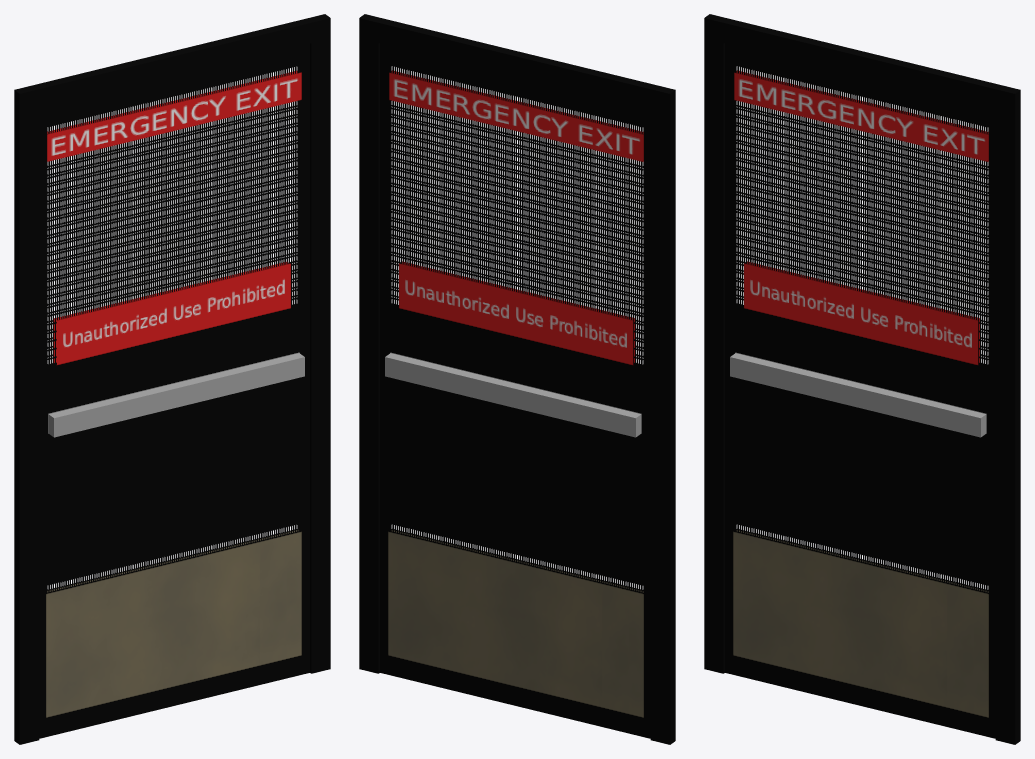
Rendered from nyc_subway_emergency_exit_door_closed.obj.
3 views of the same model, side by side, from view 1: azimuth 30°, elevation 25°; view 2: azimuth 150°, elevation 25°; view 3: azimuth 330°, elevation 25° (orthographic).
Visible parts, largest first — view 1: cube; view 2: cube; view 3: cube.
Part boxes in pixels (x1,y1,x2,y2): cube: [14, 14, 330, 744]; cube: [359, 14, 675, 744]; cube: [704, 14, 1020, 744].
Size of the model in its own units: 1 by 2 by 0.0781.
1 material, 1 textured.
